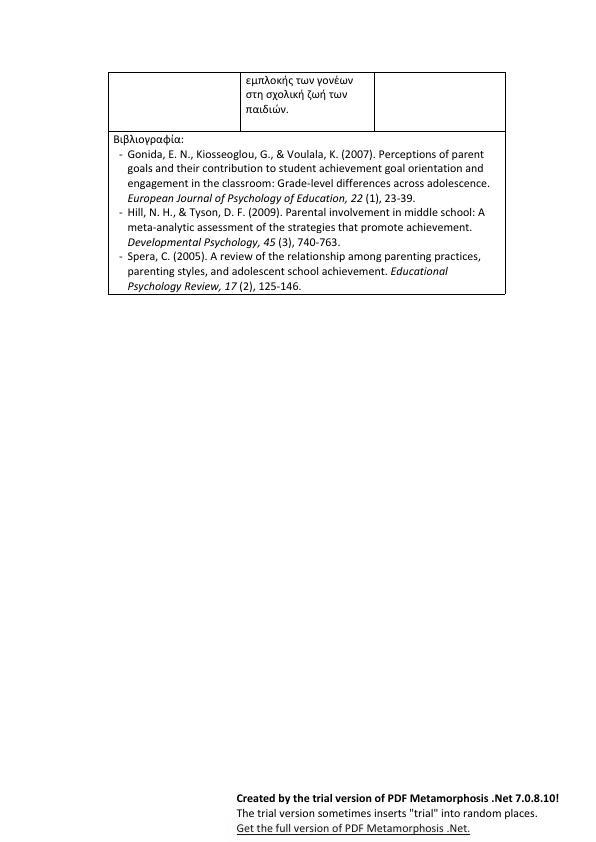table: (108, 71, 506, 295)
text: (235, 790, 561, 837)
